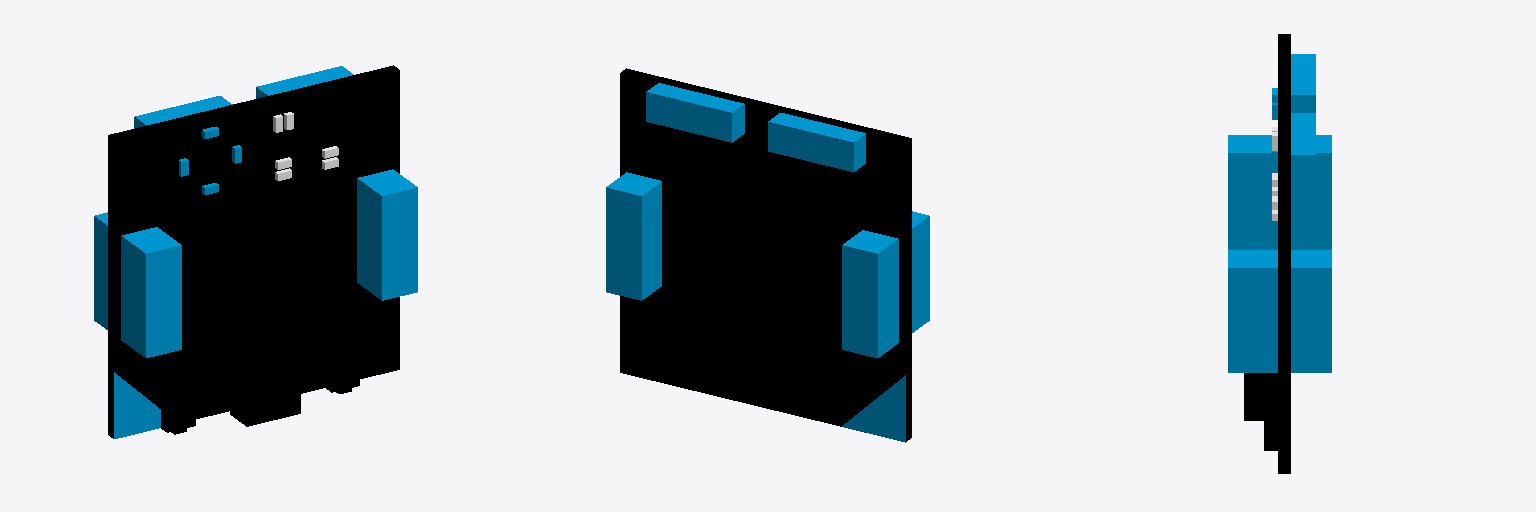
3 renders of one model, left to right at view 1: azimuth 30°, elevation 25°; view 2: azimuth 150°, elevation 25°; view 3: azimuth 270°, elevation 25°, orthographic.
Size of the model in its own units: 2 by 2.03 by 0.63.
1 materials, 1 textured.